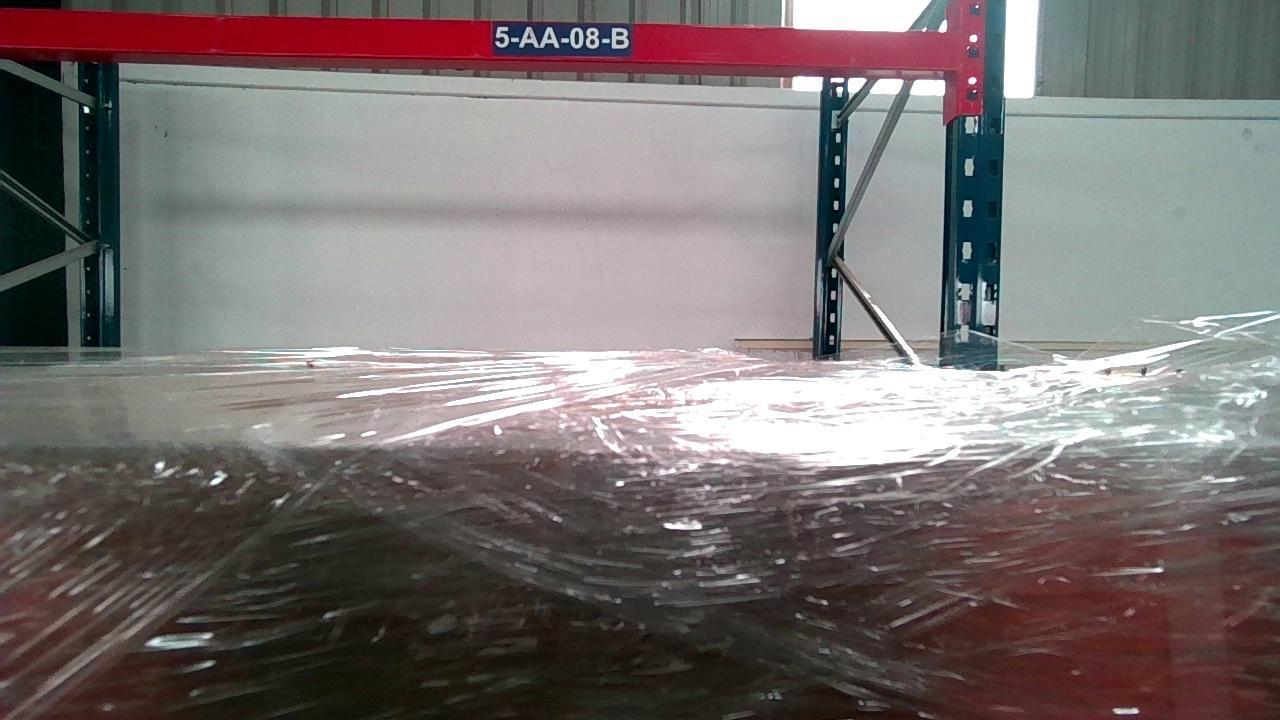h_rack: (0, 8, 953, 72)
